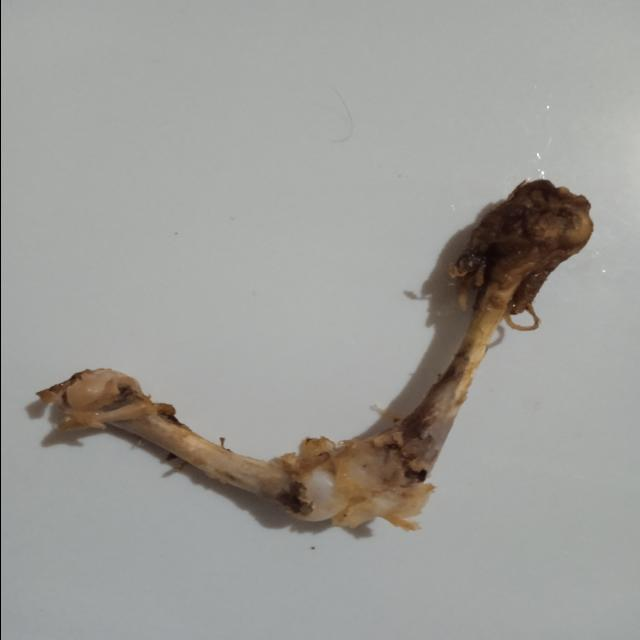bone: (29, 173, 600, 536)
